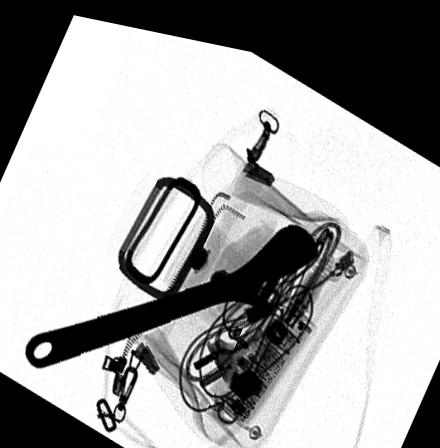Wrench: (22, 210, 320, 370)
